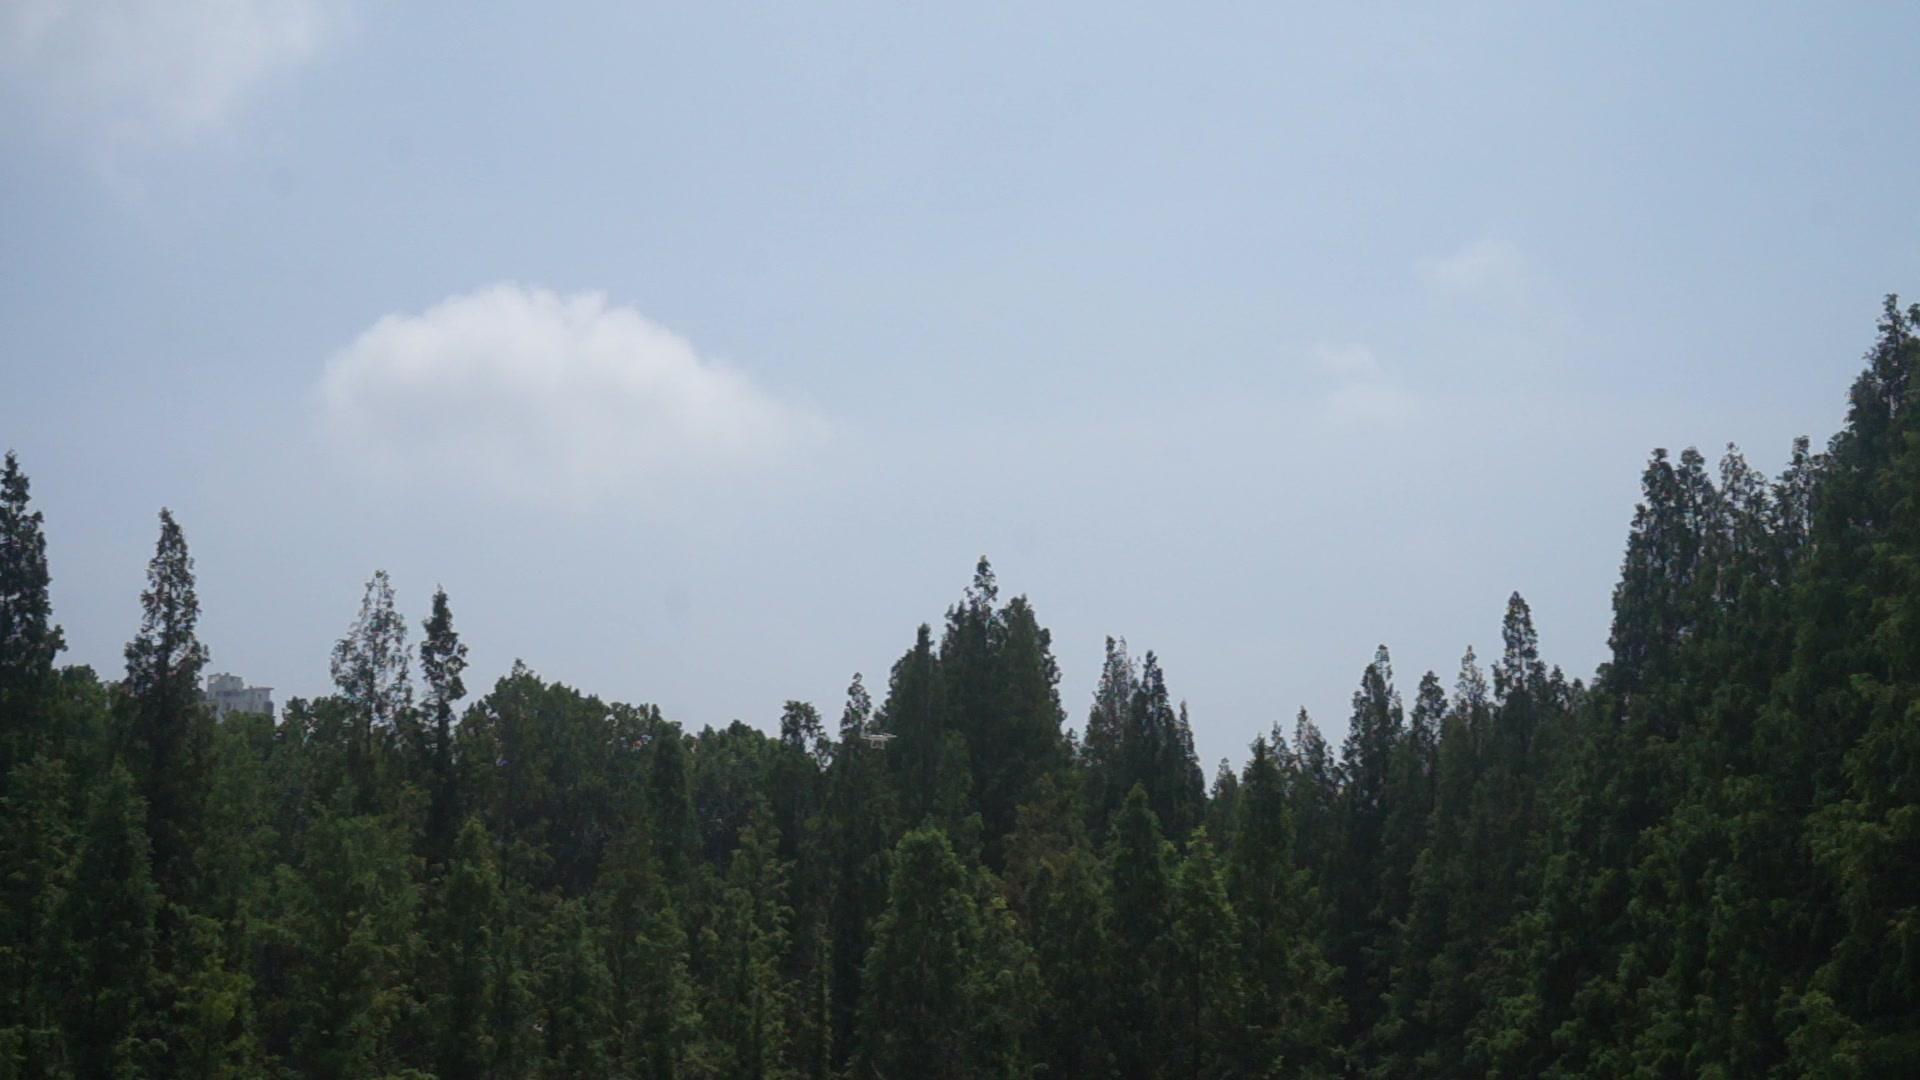UAV: (862, 735, 899, 750)
